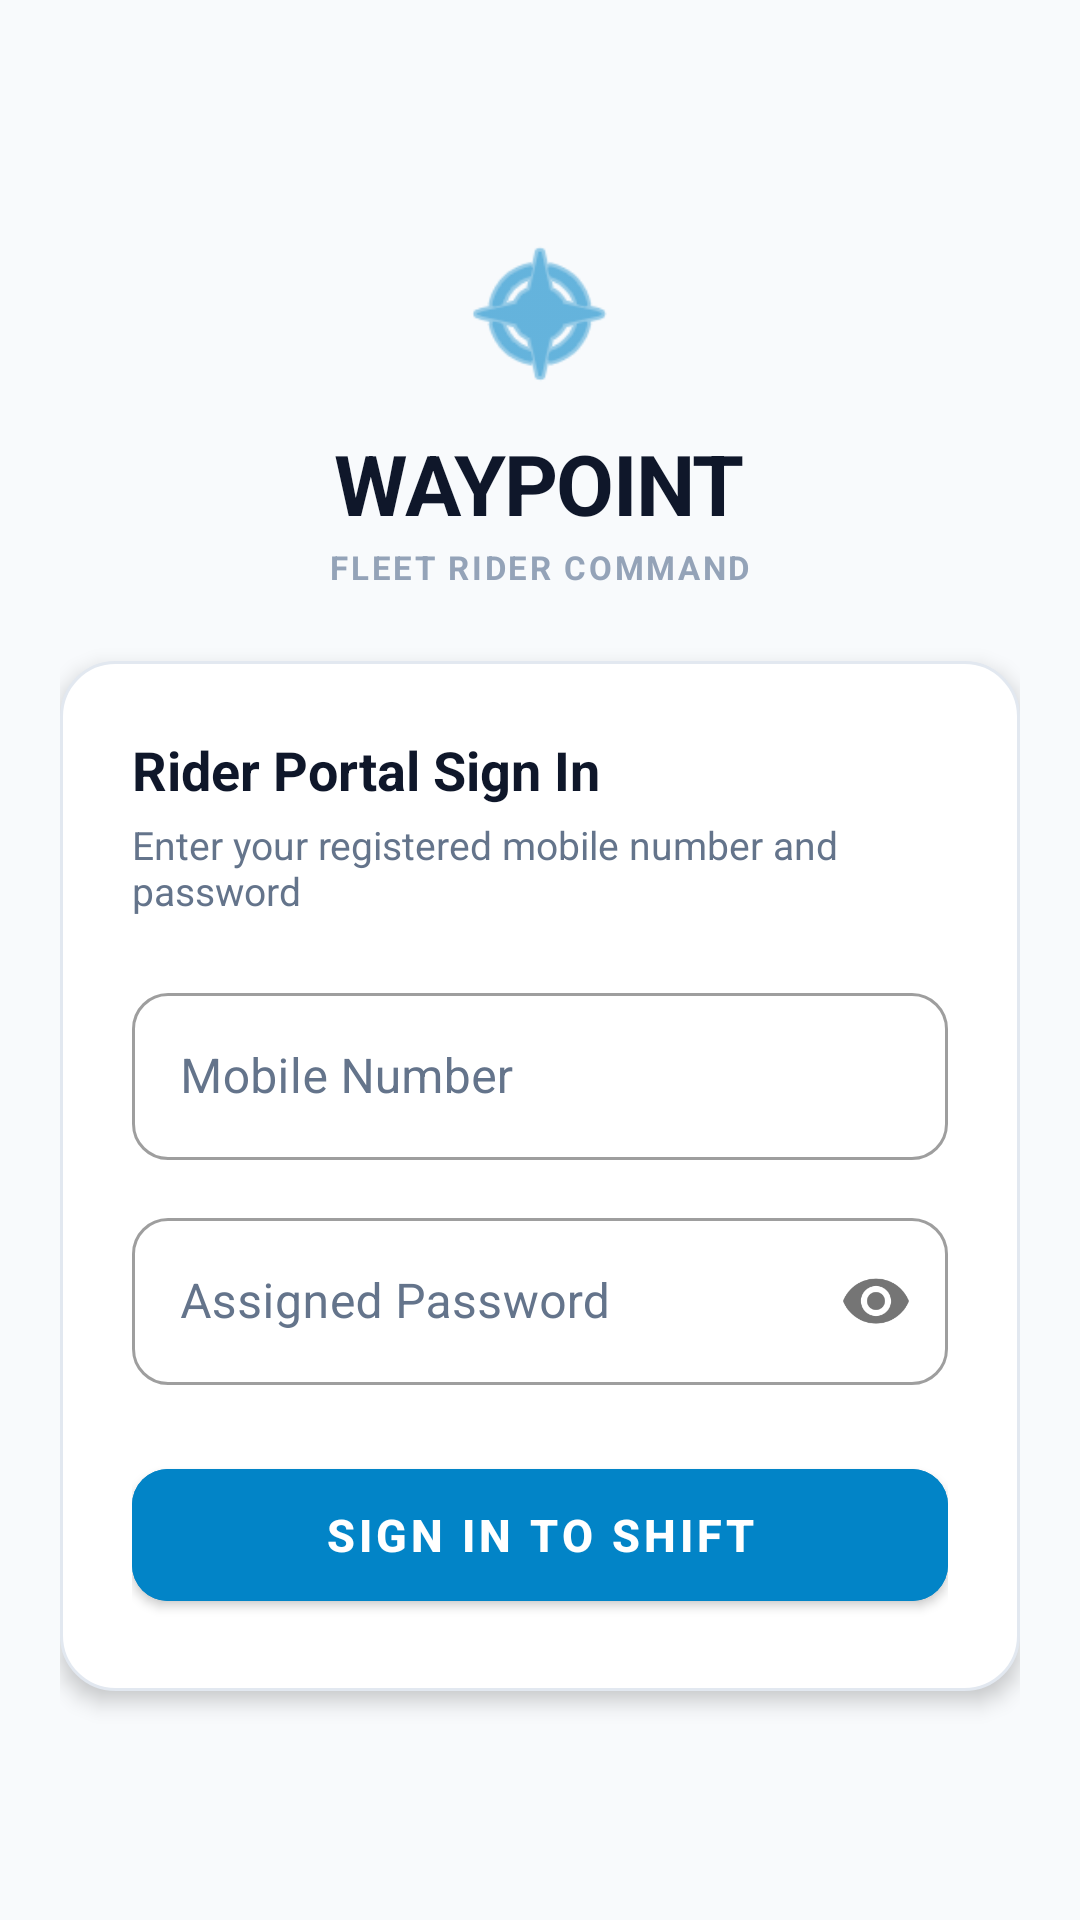

Locate icon controls on the screen. Image size 1080w x 1920h, boxes as (x1, y1, x2, y2).
compass: (473, 248, 606, 380)
